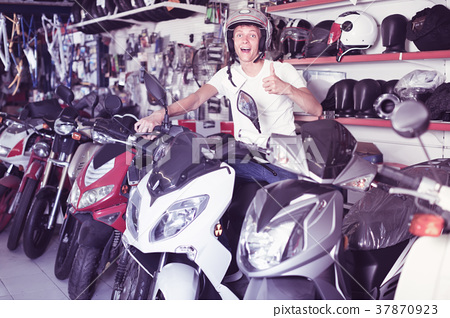helmet: (225, 10, 273, 50)
